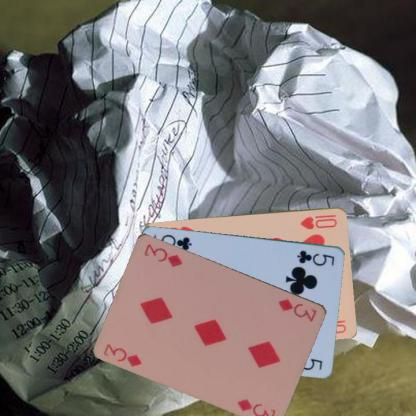10h: (298, 212, 338, 230)
3d: (101, 340, 143, 368), (276, 296, 318, 323)
5c: (294, 247, 336, 267)
